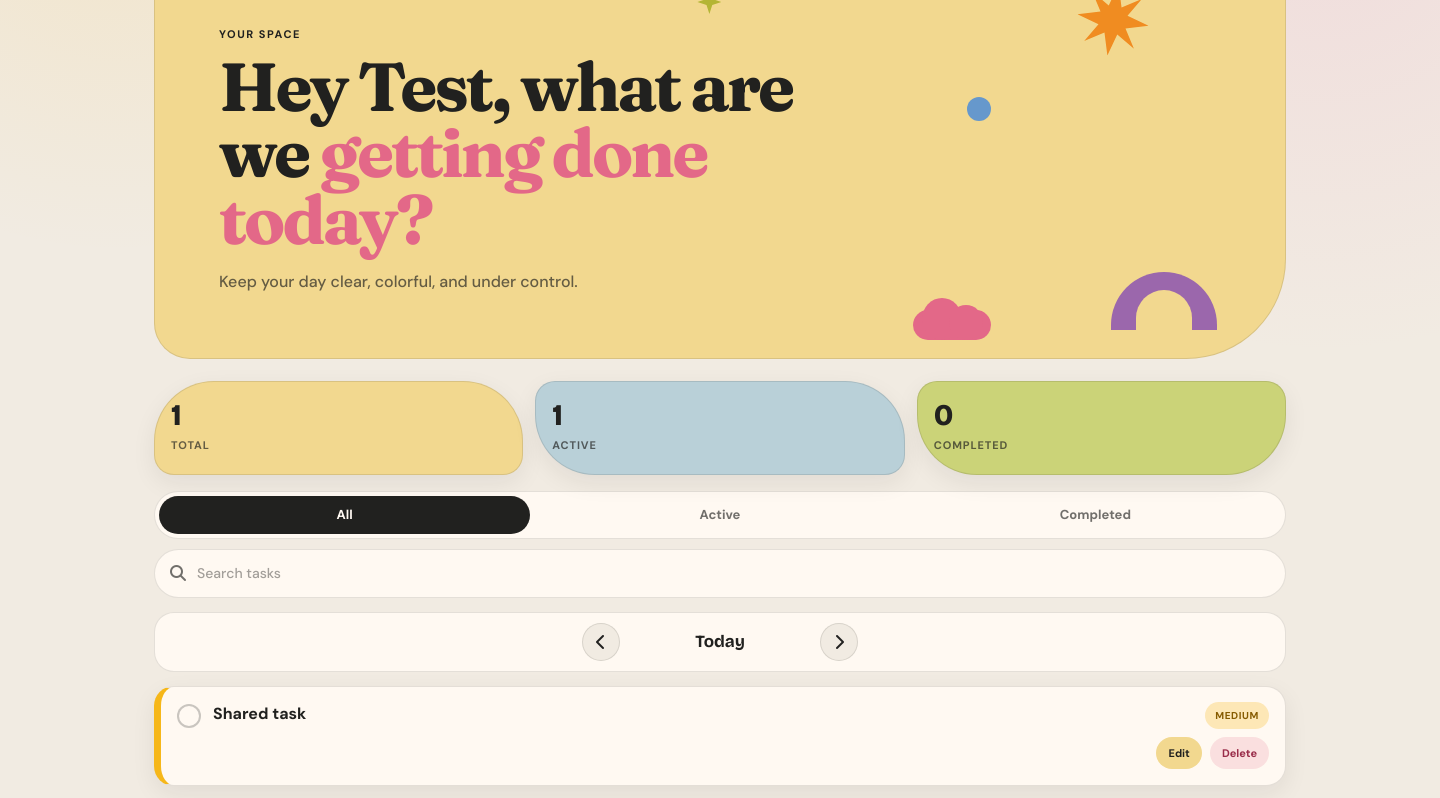
refreshes tasks and explains how to retry after a stale update
(page scrolled)
Click the button named "Mark Shared task complete".
click(189, 716)  # box [177, 704, 201, 728]
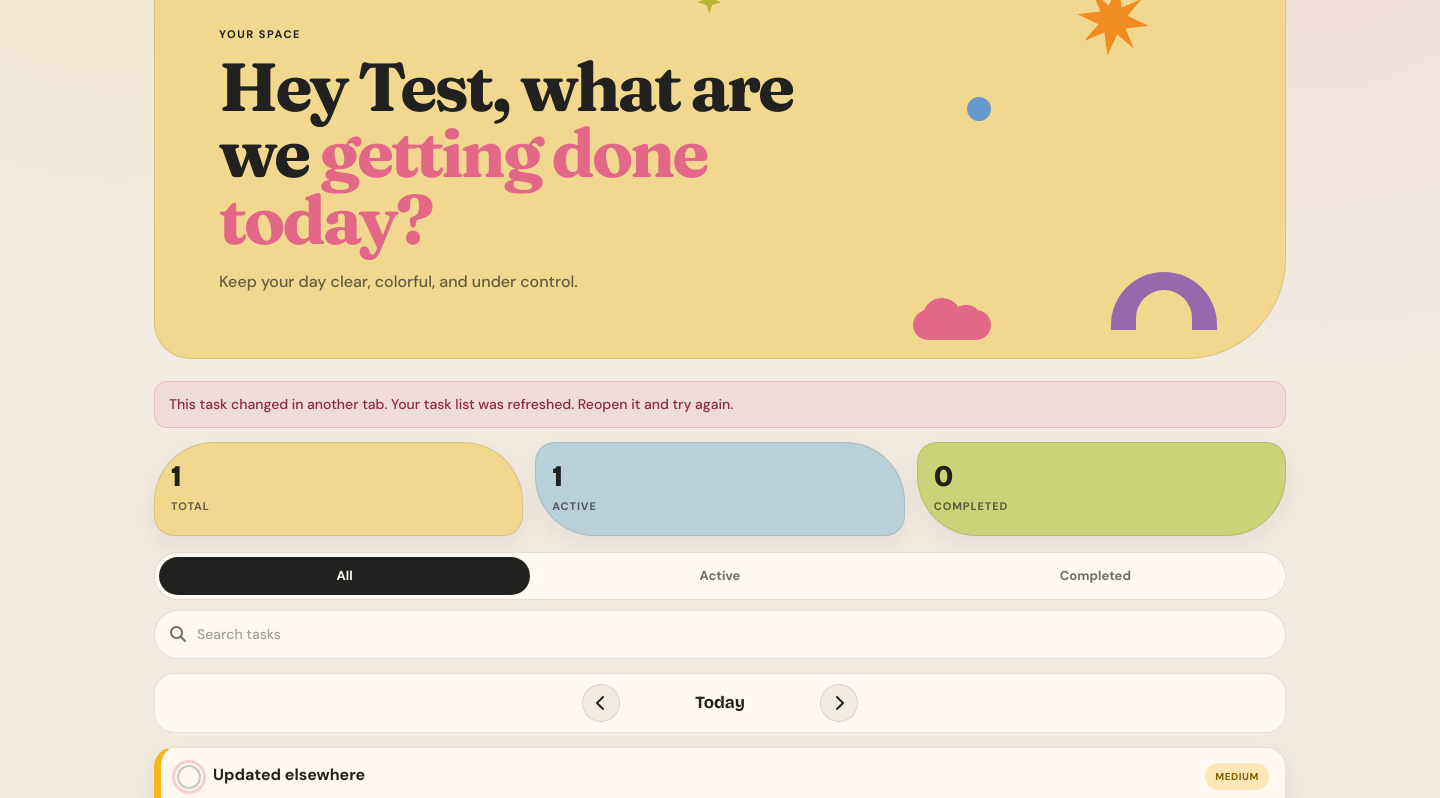
Result: the message shows "Your task list was refreshed. Reopen it and try again." at [169, 395, 733, 413]
Result: the text "Updated elsewhere" is shown at [213, 763, 365, 787]
